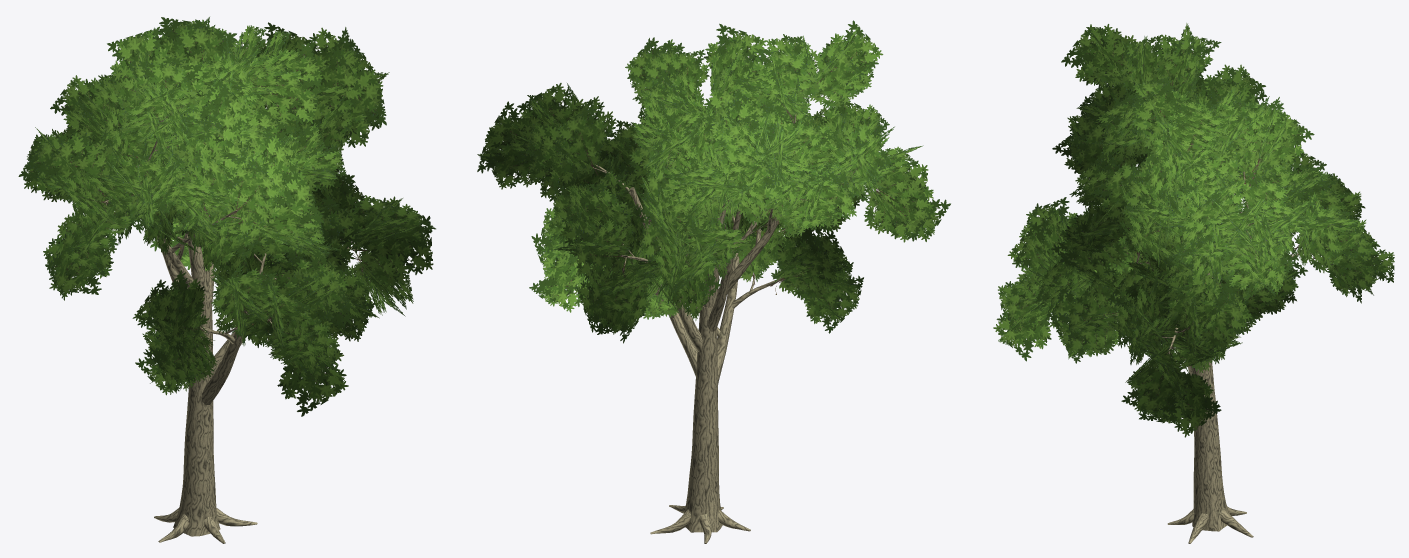
The model's file is plane-tree.glb.
3 renders of one model, left to right at view 1: azimuth 30°, elevation 25°; view 2: azimuth 150°, elevation 25°; view 3: azimuth 270°, elevation 25°, orthographic. The views are drawn at different scales.
Visible parts, largest first — view 1: Leaves, Trunk; view 2: Leaves, Trunk; view 3: Leaves, Trunk.
Boxes of the visible parts, x1,y1,x2,y2 form: Leaves: [18, 17, 435, 416]; Trunk: [98, 105, 362, 543]; Leaves: [477, 20, 950, 343]; Trunk: [593, 95, 878, 543]; Leaves: [993, 23, 1394, 437]; Trunk: [1116, 138, 1311, 543].
Bounding box in the file's own units: 13.4 × 15.8 × 12.55.
Materials: 3 (2 with a texture image).
